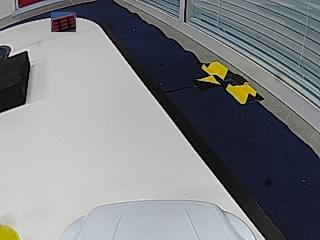block: (0, 54, 29, 113)
